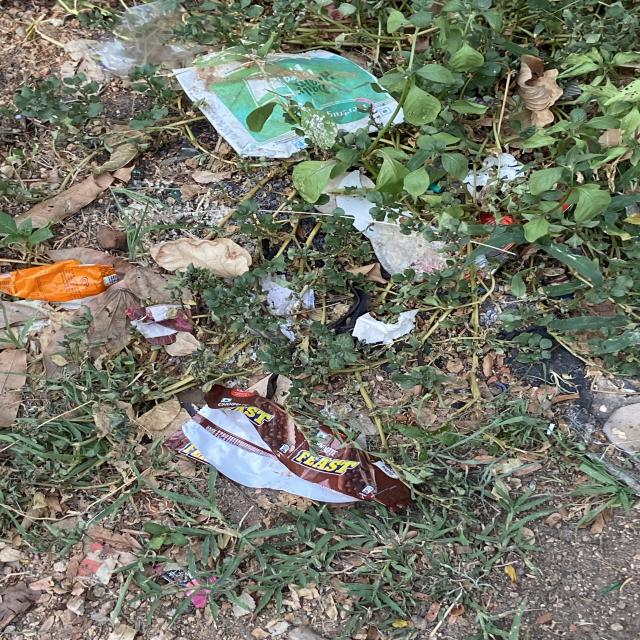giay: (124, 304, 192, 345), (352, 309, 419, 344)
giay_goi: (166, 385, 414, 512), (0, 260, 117, 301)
nhua: (172, 49, 404, 157), (90, 0, 206, 76)
